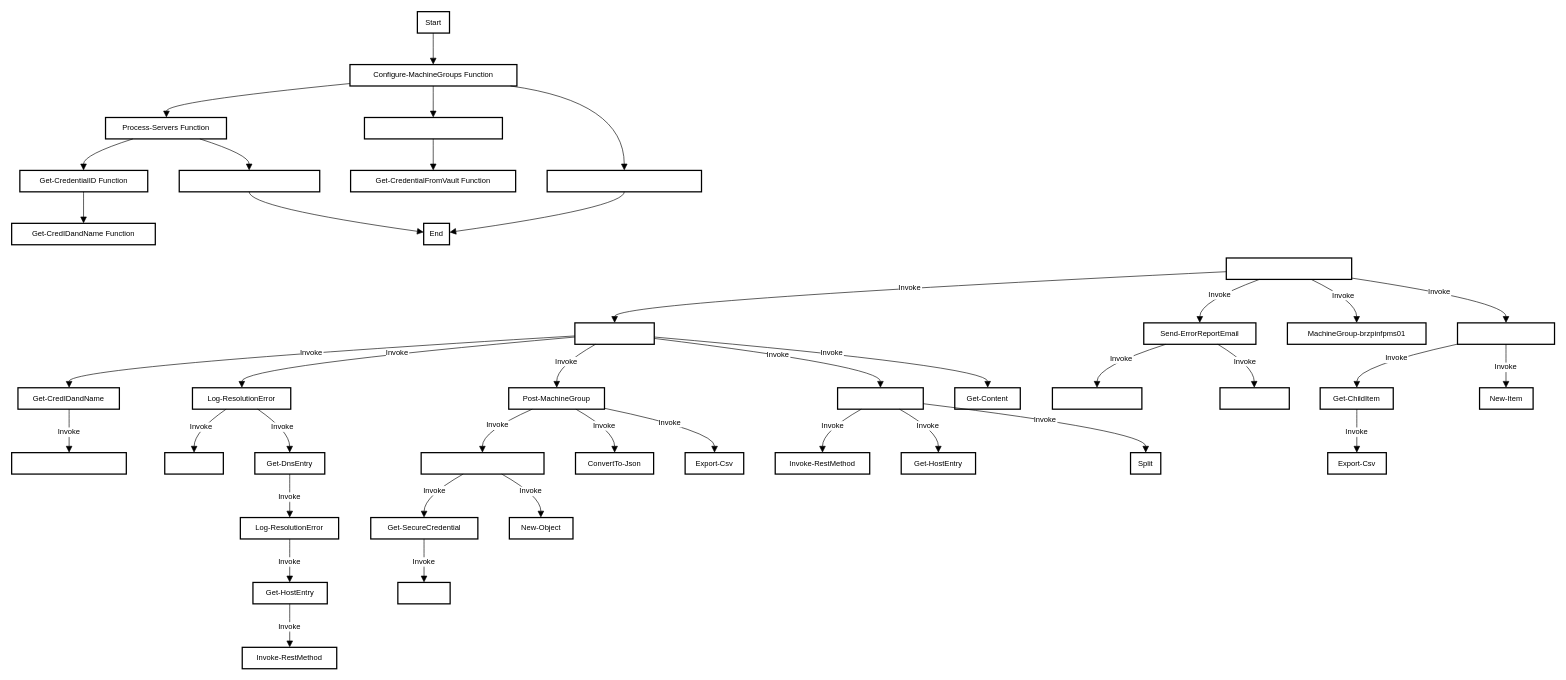
The diagram is 1566 pixels wide and 680 high, and some of its shapes have lost their labels. The shapes that lost their labels are listed below. From the top down, each one's centre as x and y in pixels, then its label:
At pixel 433 128: "Post-MachineGroup Function".
At pixel 249 180: "Log-ResolutionError Function".
At pixel 624 180: "Send-ErrorReportEmail Function".
At pixel 1288 268: "Configure-MachineGroups".
At pixel 614 333: "Process-Servers".
At pixel 1506 333: "Manage-Directories".
At pixel 880 398: "Get-CredentialID".
At pixel 1096 398: "Send-MailMessage".
At pixel 1254 398: "Remove-Item".
At pixel 69 463: "ConvertTo-SecureString".
At pixel 194 463: "Write-Host".
At pixel 482 463: "Get-CredentialFromVault".
At pixel 423 592: "Test-Path".
